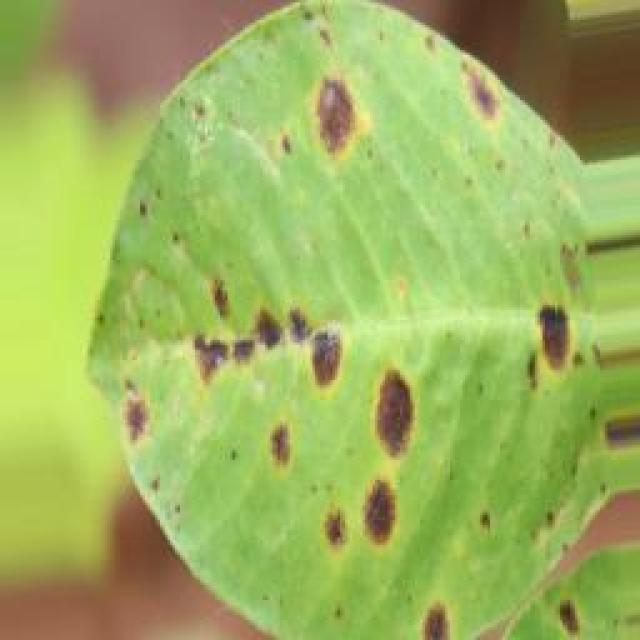Yellowish: (62, 5, 612, 640)
